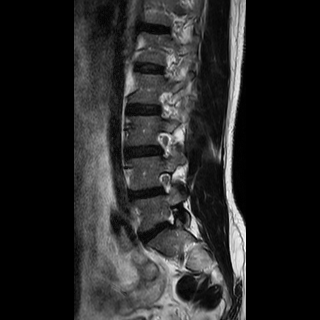RFS0: (151, 123, 178, 161), (152, 163, 178, 201)
